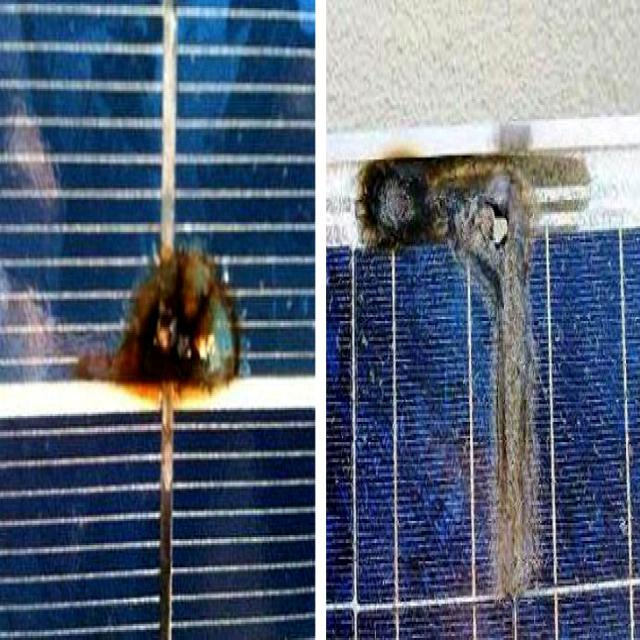shadow: (340, 135, 612, 608), (60, 215, 269, 417)
